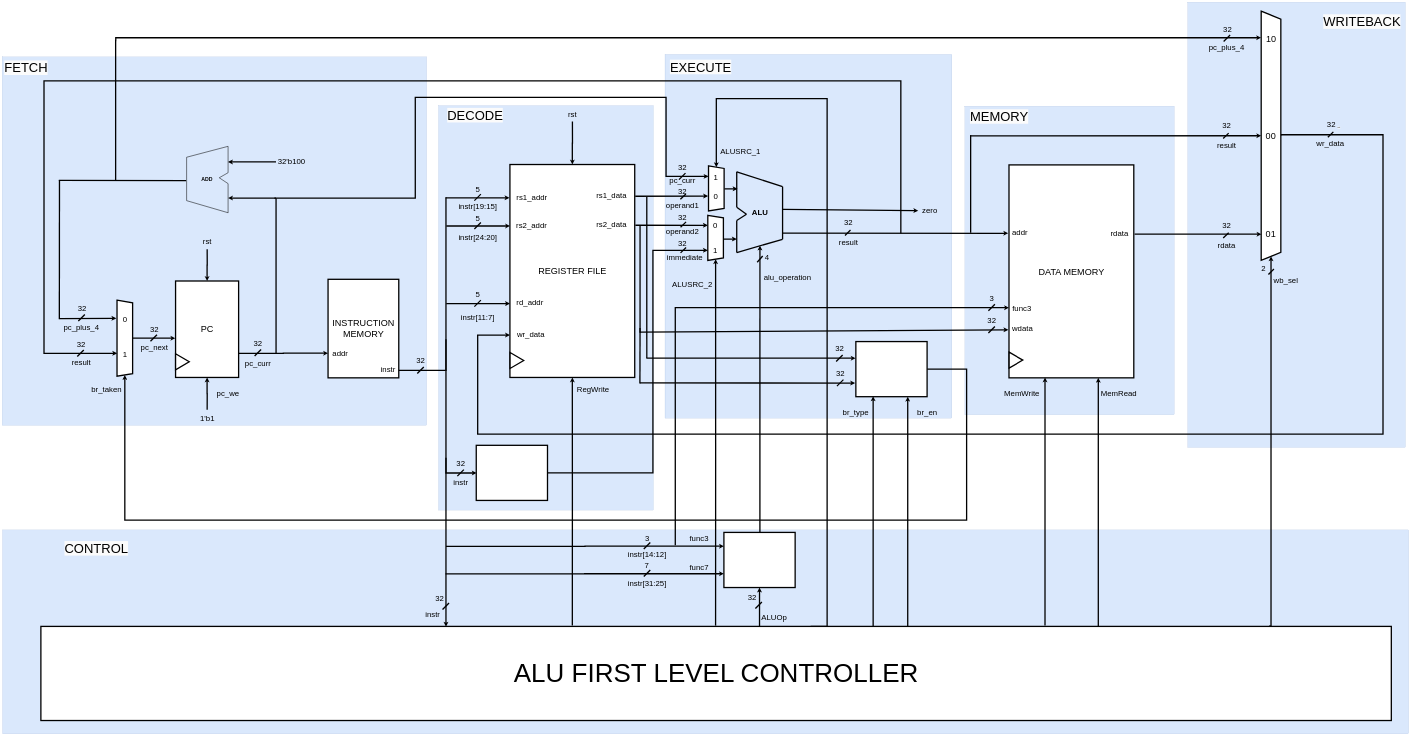
The diagram is 1411 pixels wide and 736 high, and some of its shapes have lost their labels. Here are the shapes that lost their labels. From the top down, the centre of each, then its label:
At point (891, 369): "BRANCH CONDITION CHECK".
At point (512, 473): "IMMEDIATE GENERATOR".
At point (759, 560): "ALU SECOND LEVEL CONTROLLER".
